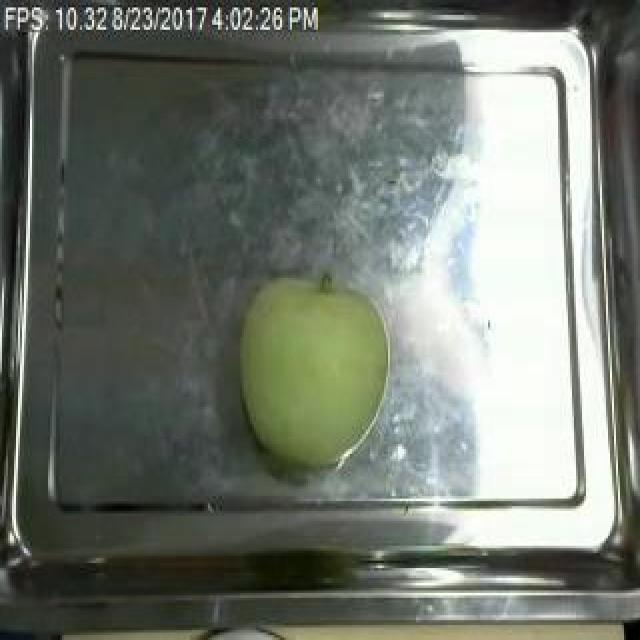Rotten Apple: (230, 264, 406, 488)
